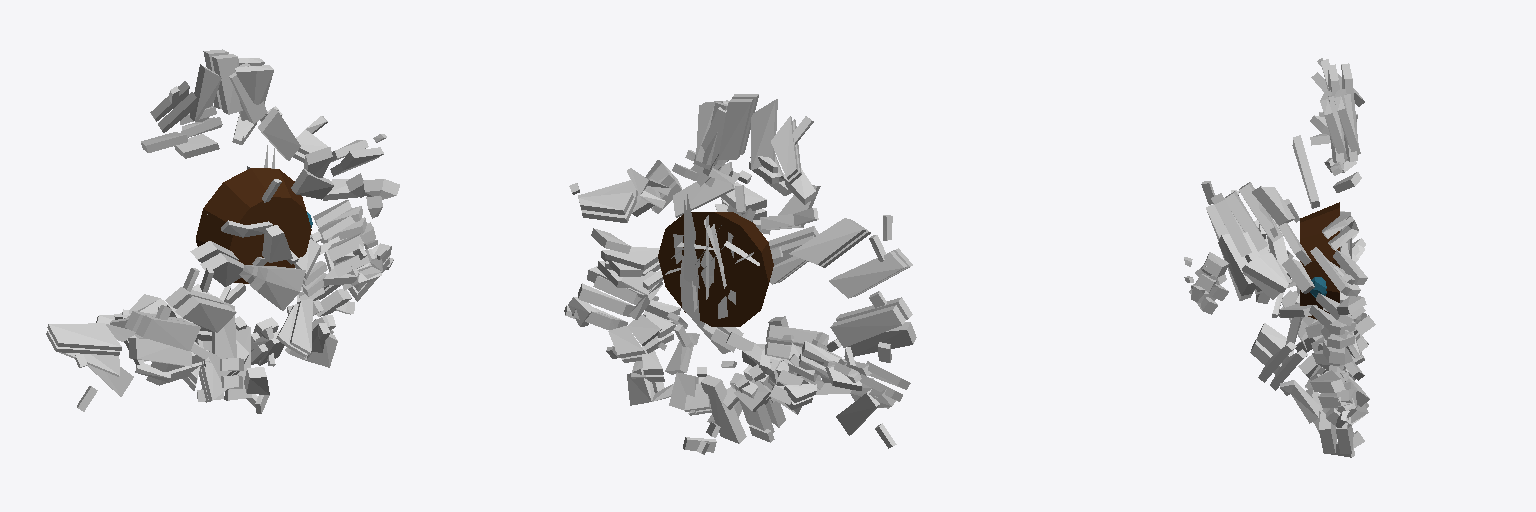
The picture shows the model from 3 angles: view 1: azimuth 30°, elevation 25°; view 2: azimuth 150°, elevation 25°; view 3: azimuth 270°, elevation 25°; orthographic projection.
Parts seen in each view (by area): view 1: Cone.001_Cone.001_cover, Cone_Cone_cover, Cylinder_Cylinder_Material.001; view 2: Cone_Cone_cover, Cone.001_Cone.001_cover, Cylinder_Cylinder_Material.001, Plane_Plane_Material.003; view 3: Cone_Cone_cover, Cone.001_Cone.001_cover, Cylinder_Cylinder_Material.001.
Part boxes in pixels (x1,y1,x2,y2): Cone.001_Cone.001_cover: (46, 49, 386, 411); Cone_Cone_cover: (110, 147, 399, 413); Cylinder_Cylinder_Material.001: (196, 168, 311, 283); Cone_Cone_cover: (564, 160, 916, 454); Cone.001_Cone.001_cover: (569, 94, 910, 448); Cylinder_Cylinder_Material.001: (658, 212, 773, 326); Plane_Plane_Material.003: (665, 194, 759, 329); Cone_Cone_cover: (1184, 182, 1375, 457); Cone.001_Cone.001_cover: (1191, 58, 1368, 407); Cylinder_Cylinder_Material.001: (1300, 202, 1339, 319).
Size of the model in its own units: 3.42 by 3.53 by 1.67.
Materials: 4 (1 with a texture image).